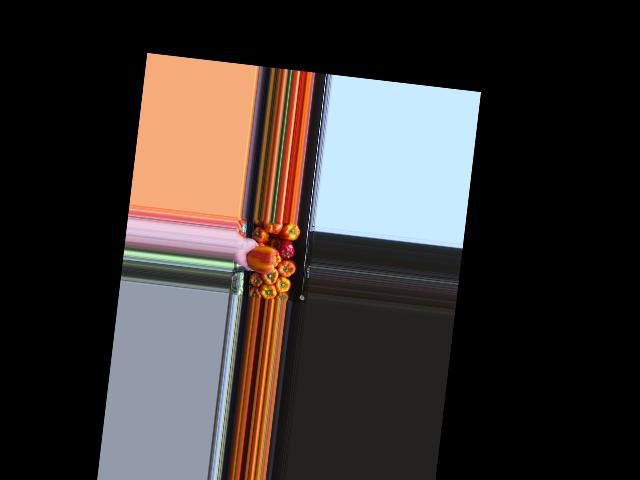bell_pepper: (253, 224, 270, 244)
